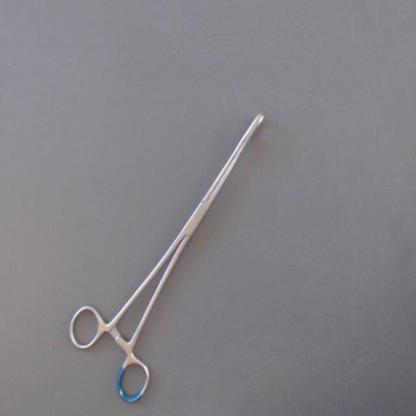Sponge Forceps: (58, 97, 278, 414)
